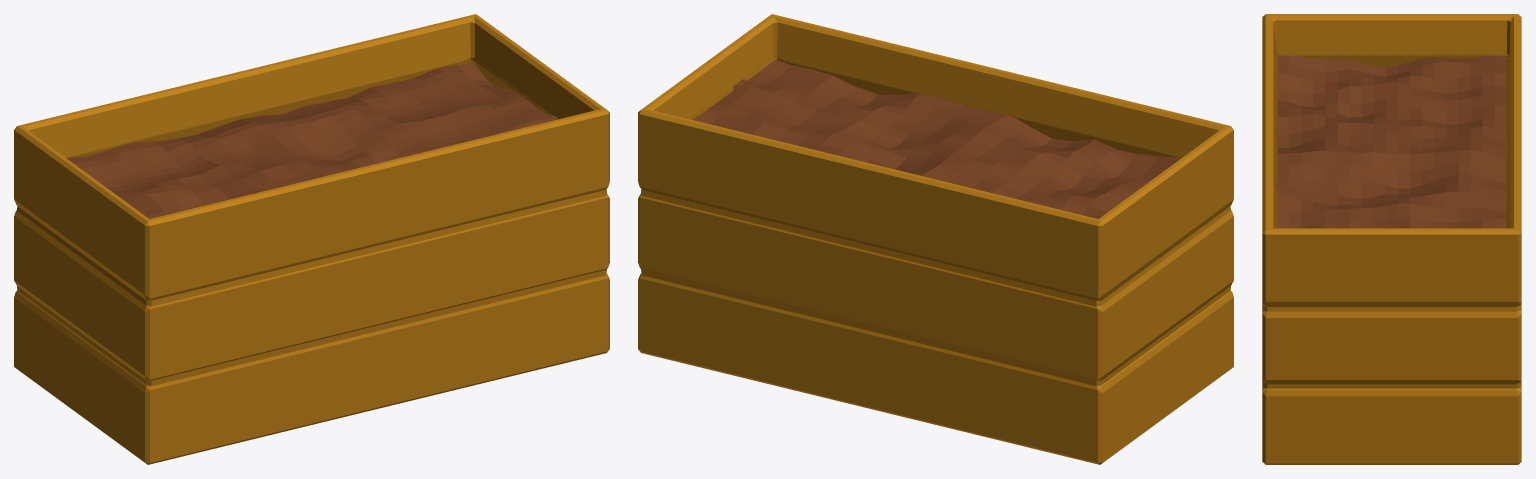
Rendered from Planter1x0.5.glb.
The picture shows the model from 3 angles, left to right: view 1: azimuth 30°, elevation 25°; view 2: azimuth 150°, elevation 25°; view 3: azimuth 270°, elevation 25°; orthographic projection. The views are drawn at different scales.
Parts seen in each view (by area): view 1: Plane, Soil; view 2: Plane, Soil; view 3: Plane, Soil.
Boxes of the visible parts, x1,y1,x2,y2 form: Plane: [14, 14, 609, 464]; Soil: [66, 63, 558, 218]; Plane: [638, 14, 1233, 464]; Soil: [694, 60, 1181, 218]; Plane: [1262, 14, 1521, 464]; Soil: [1275, 55, 1507, 228].
Bounding box in the file's own units: 1 × 0.5 × 0.5.
